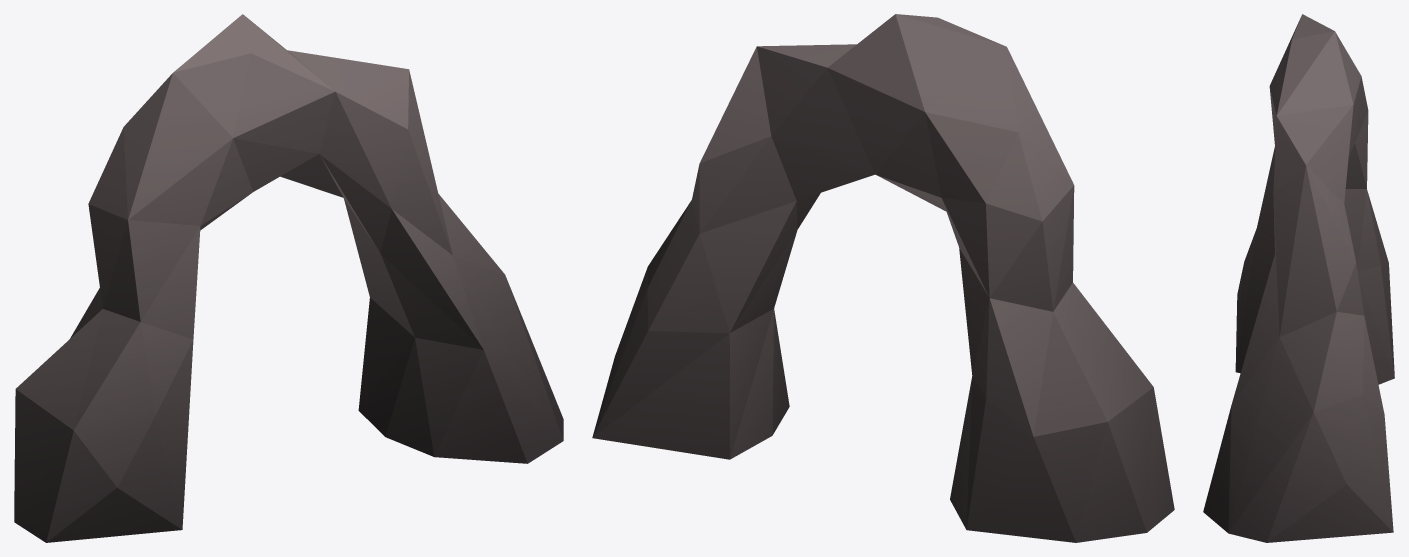
Rendered from SM_Rock_Arc_1.fbx.
3 views of the same model, side by side, from view 1: azimuth 30°, elevation 25°; view 2: azimuth 150°, elevation 25°; view 3: azimuth 270°, elevation 25° (orthographic). The views are drawn at different scales.
Visible parts, largest first — view 1: Rock_Arc_1; view 2: Rock_Arc_1; view 3: Rock_Arc_1.
Boxes of the visible parts, x1,y1,x2,y2 form: Rock_Arc_1: (14,14,563,542); Rock_Arc_1: (592,14,1174,542); Rock_Arc_1: (1203,14,1394,542).
Size of the model in its own units: 240 by 198 by 87.99.
Materials: 1 (1 with a texture image).
